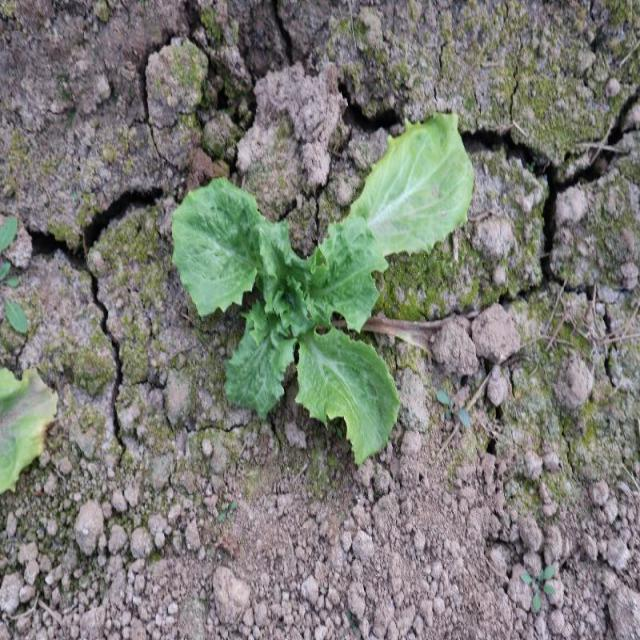crop: (171, 175, 404, 469)
